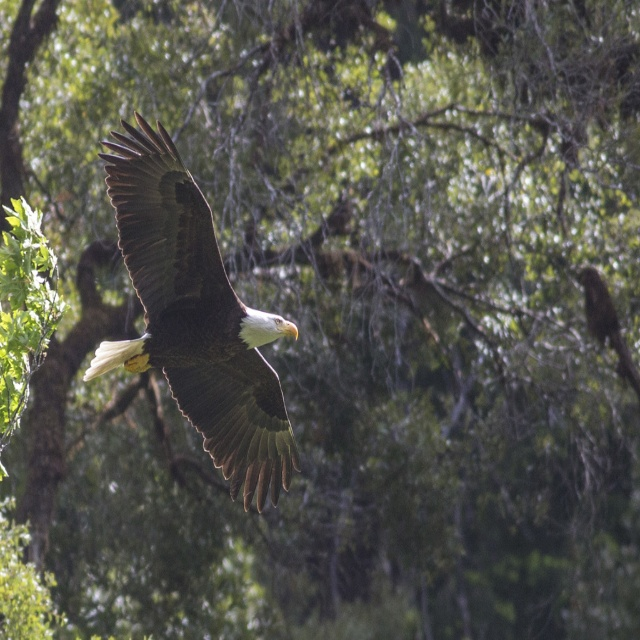Eagle: (77, 104, 300, 513)
